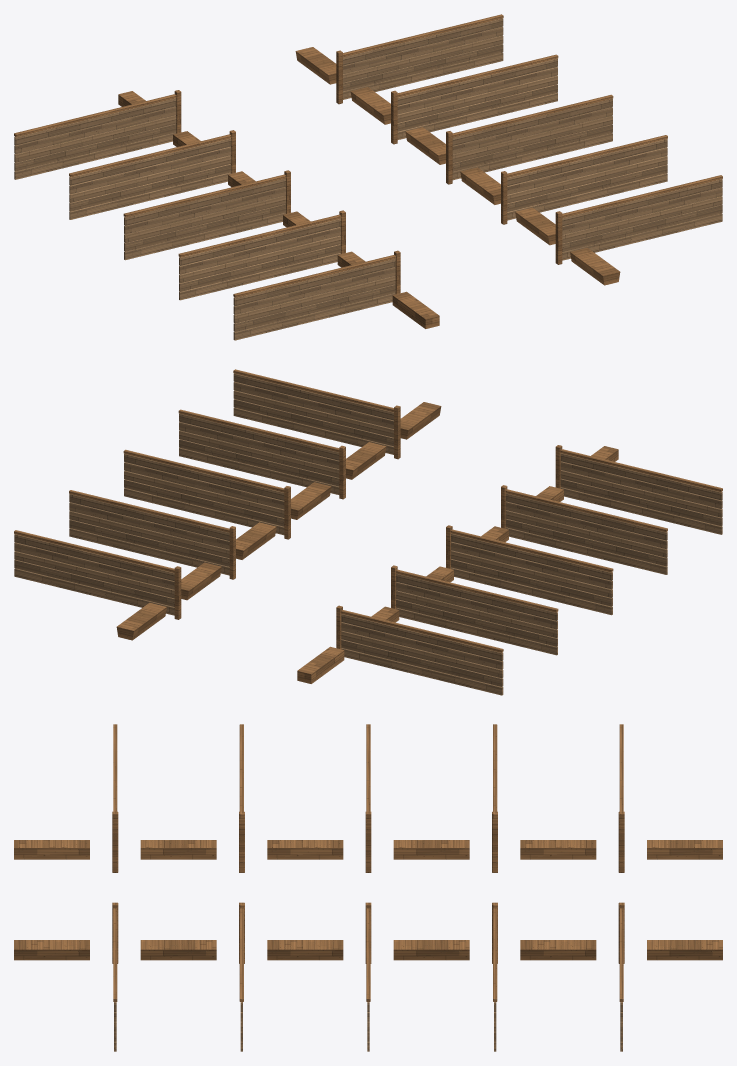
The model's file is stalls.glb.
3 renders of one model, top to bottom at view 1: azimuth 30°, elevation 25°; view 2: azimuth 150°, elevation 25°; view 3: azimuth 270°, elevation 25°, orthographic. The views are drawn at different scales.
Parts seen in each view (by area): view 1: stalls_planks, stalls_wood; view 2: stalls_planks, stalls_wood; view 3: stalls_wood, stalls_planks.
Part boxes in pixels (x1=…): stalls_planks: x1=14, y1=18, x2=722, y2=340; stalls_wood: x1=14, y1=14, x2=722, y2=328; stalls_planks: x1=14, y1=373, x2=722, y2=695; stalls_wood: x1=14, y1=369, x2=722, y2=683; stalls_wood: x1=14, y1=724, x2=722, y2=1001; stalls_planks: x1=114, y1=1002, x2=622, y2=1051.
Size of the model in its own units: 15.4 by 1.55 by 16.8.
Materials: 3 (2 with a texture image).
